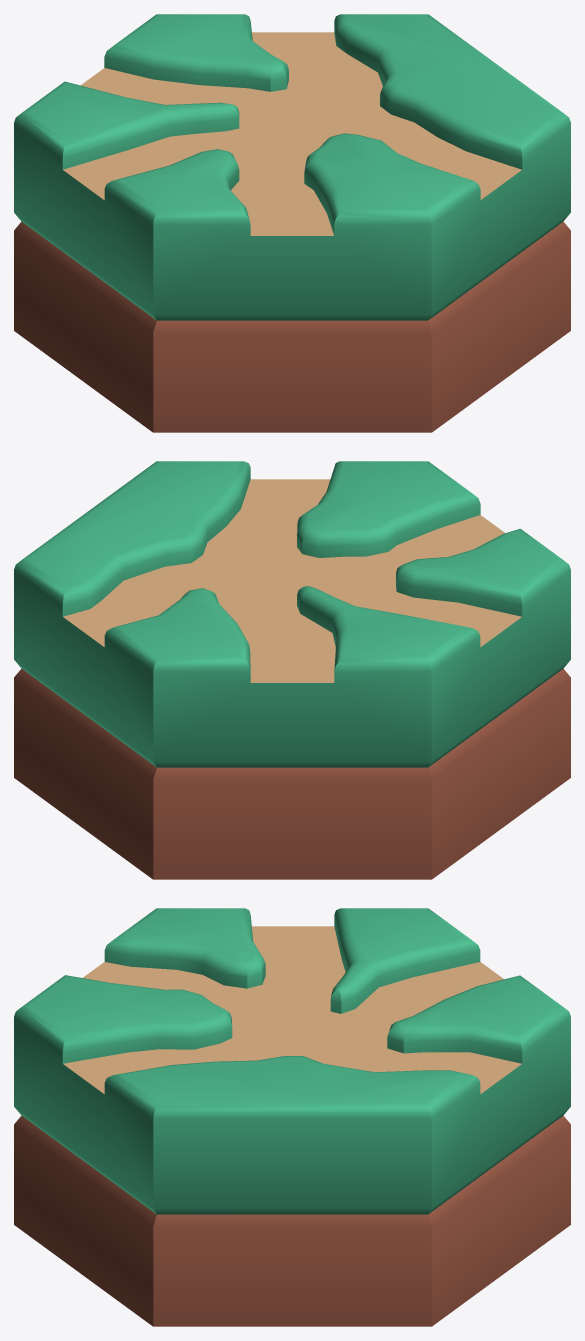
File: kaykit-hex-forest-roadl-detail.glb
The picture shows the model from 3 angles, top to bottom: view 1: azimuth 30°, elevation 25°; view 2: azimuth 150°, elevation 25°; view 3: azimuth 270°, elevation 25°; orthographic projection.
Visible parts, largest first — view 1: hex_forest_roadL_detail; view 2: hex_forest_roadL_detail; view 3: hex_forest_roadL_detail.
Boxes of the visible parts, x1,y1,x2,y2 form: hex_forest_roadL_detail: (14, 14, 570, 432); hex_forest_roadL_detail: (14, 461, 570, 879); hex_forest_roadL_detail: (14, 908, 570, 1326).
Bounding box in the file's own units: 2 × 1 × 2.31.
